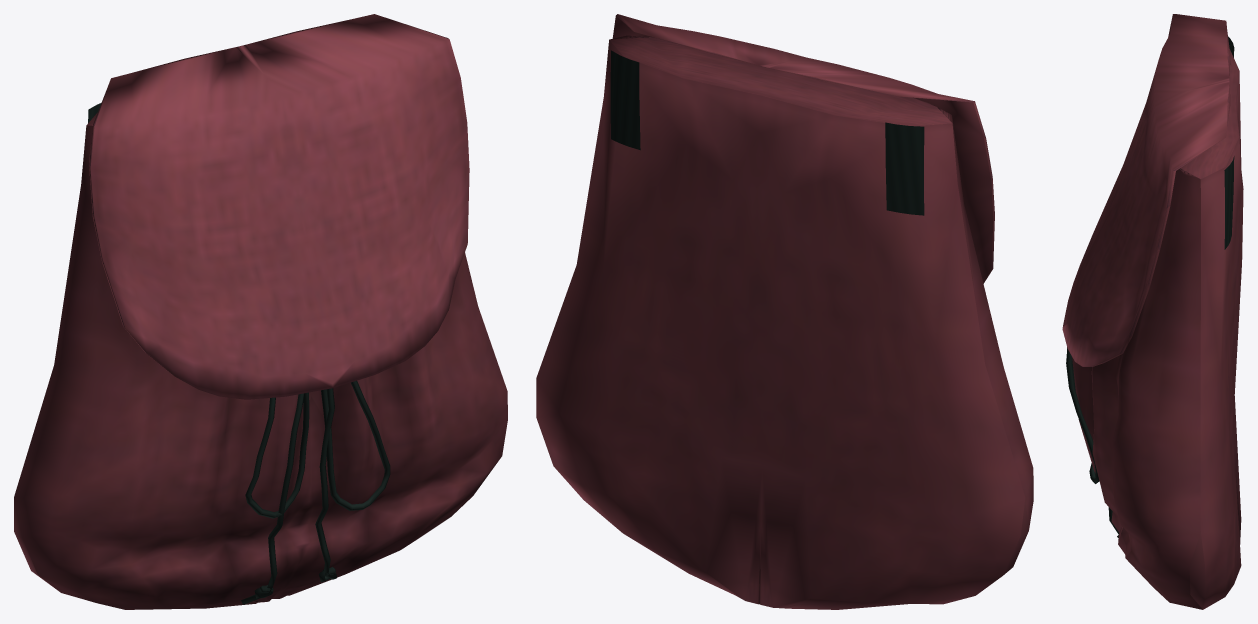
File: BurgundyClothPouchLow.glb
3 views of the same model, side by side, from view 1: azimuth 30°, elevation 25°; view 2: azimuth 150°, elevation 25°; view 3: azimuth 270°, elevation 25° (orthographic). The views are drawn at different scales.
Parts seen in each view (by area): view 1: Symmetric Cloth Pouch; view 2: Symmetric Cloth Pouch; view 3: Symmetric Cloth Pouch.
Part boxes in pixels (x1,y1,x2,y2): Symmetric Cloth Pouch: [14, 14, 507, 609]; Symmetric Cloth Pouch: [536, 14, 1033, 609]; Symmetric Cloth Pouch: [1062, 14, 1243, 609].
Bounding box in the file's own units: 0.9616 × 1.01 × 0.3422.
1 material, 1 textured.
